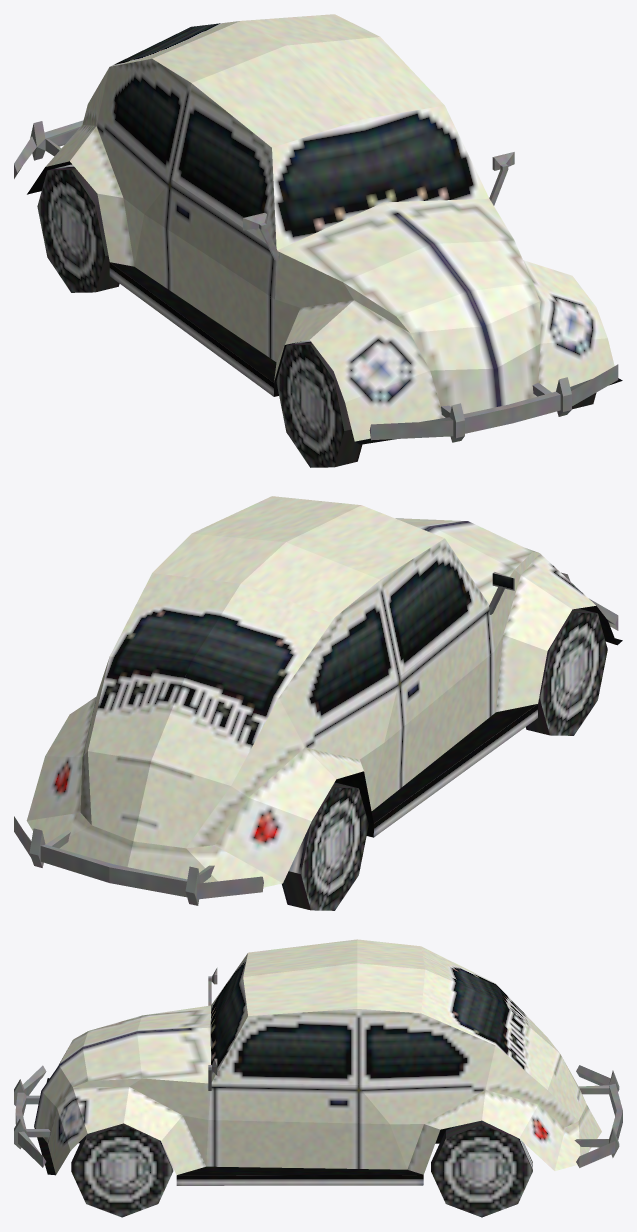
Rendered from petablanca.fbx.
3 renders of one model, top to bottom at view 1: azimuth 30°, elevation 25°; view 2: azimuth 150°, elevation 25°; view 3: azimuth 270°, elevation 25°, orthographic. The views are drawn at different scales.
Visible parts, largest first — view 1: compact_classic; view 2: compact_classic; view 3: compact_classic.
Boxes of the visible parts, bbox=[...] form: compact_classic: bbox=[14, 14, 622, 467]; compact_classic: bbox=[14, 496, 622, 910]; compact_classic: bbox=[14, 939, 622, 1217].
Bounding box in the file's own units: 158 × 153 × 406.
Materials: 1 (1 with a texture image).
